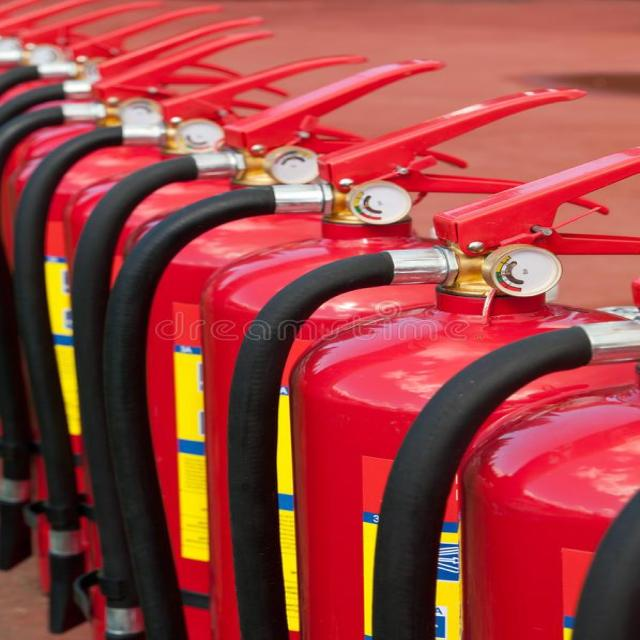fire_extinguisher: (80, 78, 611, 640), (65, 52, 462, 639), (0, 46, 372, 639), (209, 140, 633, 639), (343, 270, 638, 640)
